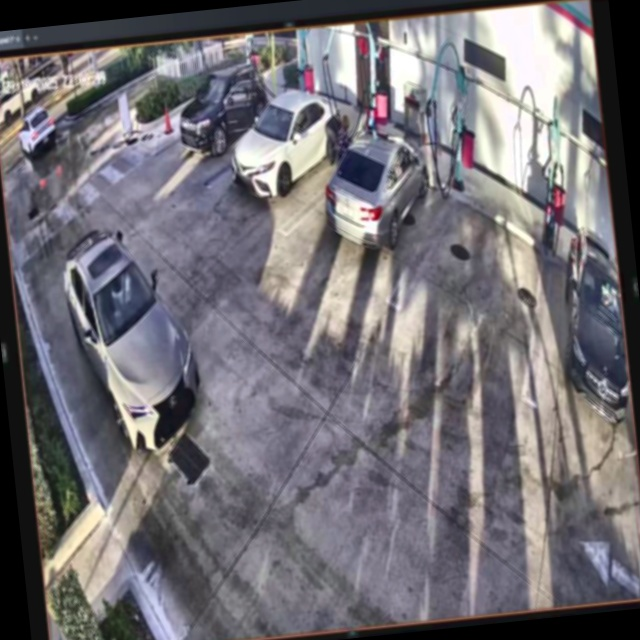Car: (60, 221, 209, 461), (319, 130, 436, 253), (227, 87, 349, 200), (176, 63, 272, 161)
